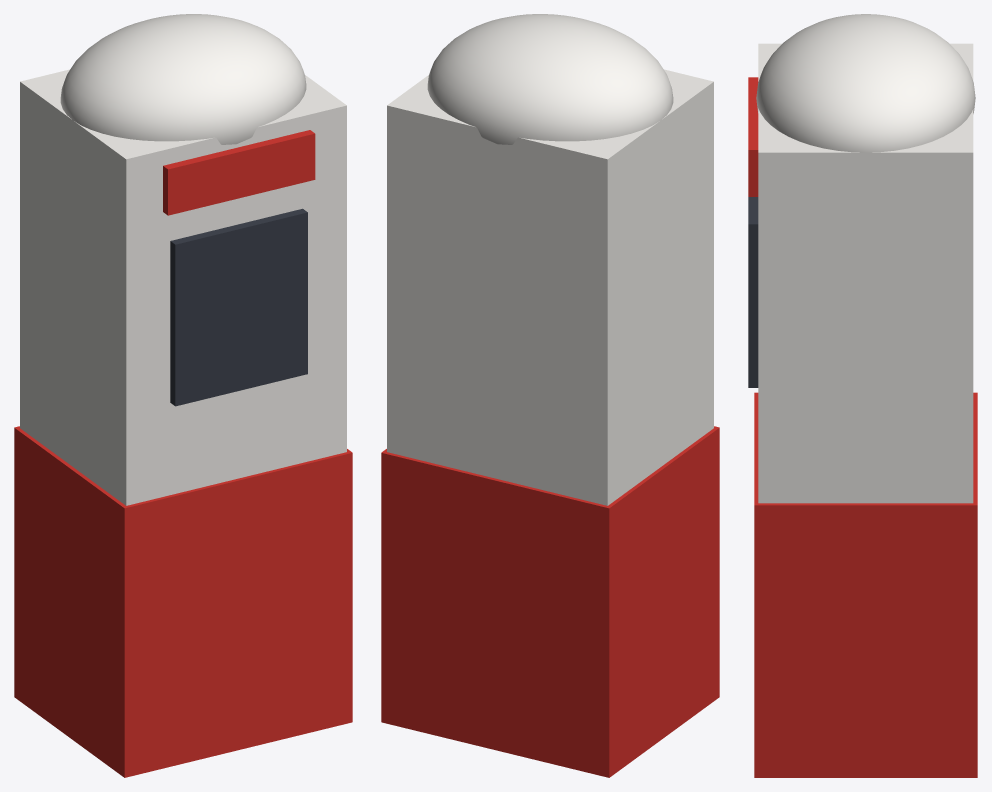
Rendered from PoolKiosk.fbx.
3 views of the same model, side by side, from view 1: azimuth 30°, elevation 25°; view 2: azimuth 150°, elevation 25°; view 3: azimuth 270°, elevation 25° (orthographic).
Visible parts, largest first — view 1: kiosk_base, kiosk_body, kiosk_cap, kiosk_panel, kiosk_sign; view 2: kiosk_body, kiosk_base, kiosk_cap; view 3: kiosk_body, kiosk_base, kiosk_cap, kiosk_panel, kiosk_sign.
Boxes of the visible parts, x1,y1,x2,y2 form: kiosk_base: [14, 426, 352, 777]; kiosk_body: [20, 69, 346, 505]; kiosk_cap: [60, 14, 306, 144]; kiosk_panel: [170, 208, 307, 406]; kiosk_sign: [163, 130, 315, 215]; kiosk_body: [387, 69, 713, 505]; kiosk_base: [381, 426, 719, 777]; kiosk_cap: [427, 14, 673, 144]; kiosk_body: [758, 43, 973, 503]; kiosk_base: [754, 392, 977, 777]; kiosk_cap: [756, 14, 975, 152]; kiosk_panel: [748, 197, 758, 387]; kiosk_sign: [748, 77, 758, 196].
Size of the model in its own units: 0.4464 by 1.27 by 0.3844.
